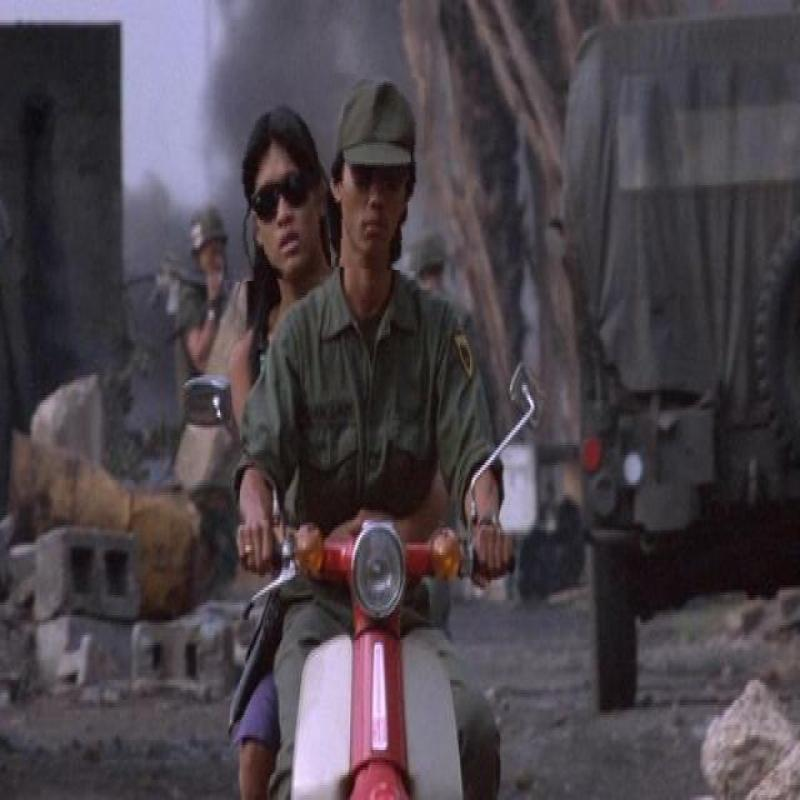nohelmet: (324, 74, 424, 270), (228, 98, 328, 281)
